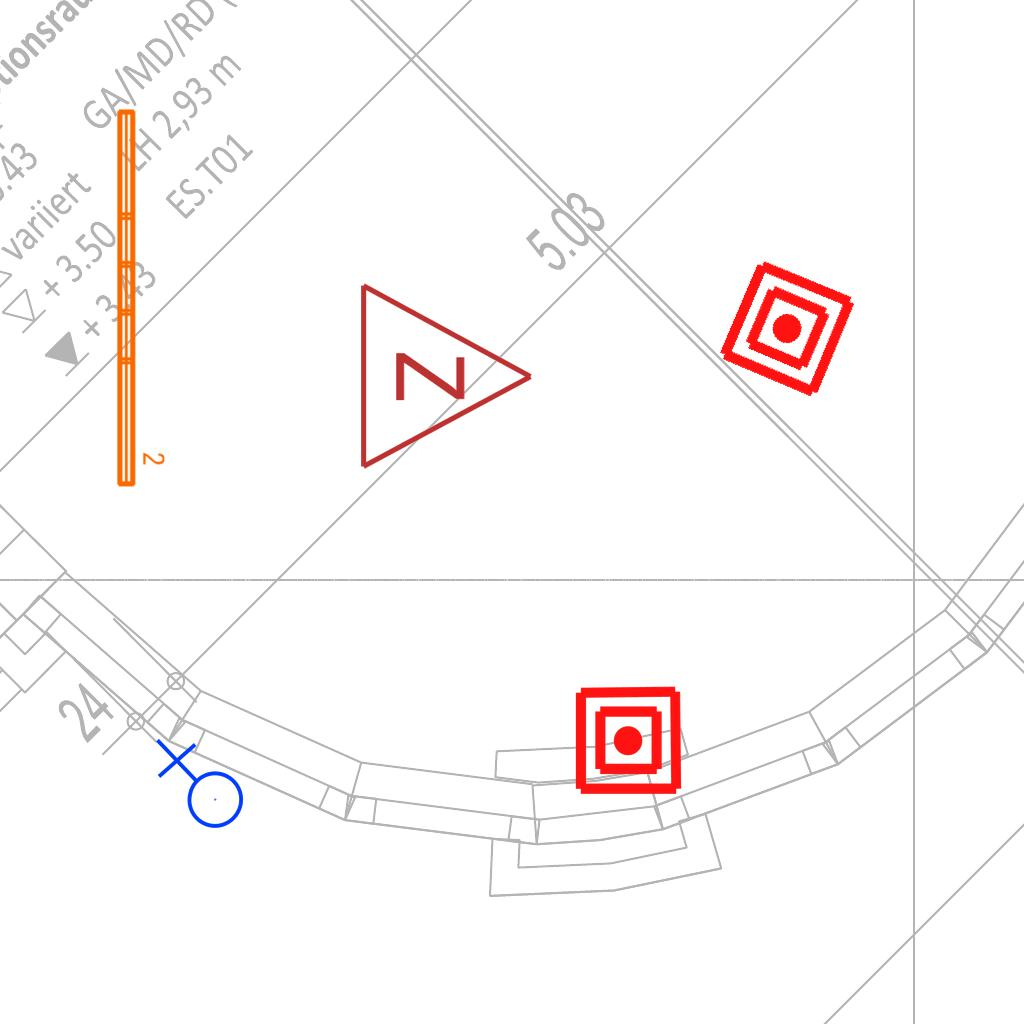Ambulanz_Pendelleuchte_LED: (111, 104, 167, 491)
Elektroanschluss_allgemein_230V_Geraeteanschlussdose_230V: (151, 738, 245, 837)
NAM-Nichtautomatischer_Melder: (713, 254, 862, 403), (572, 684, 685, 797)
Zimmersignalleuchte: (346, 276, 546, 472)
